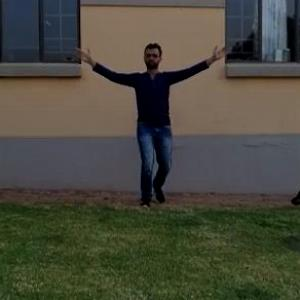takeoff: (72, 40, 219, 197)
